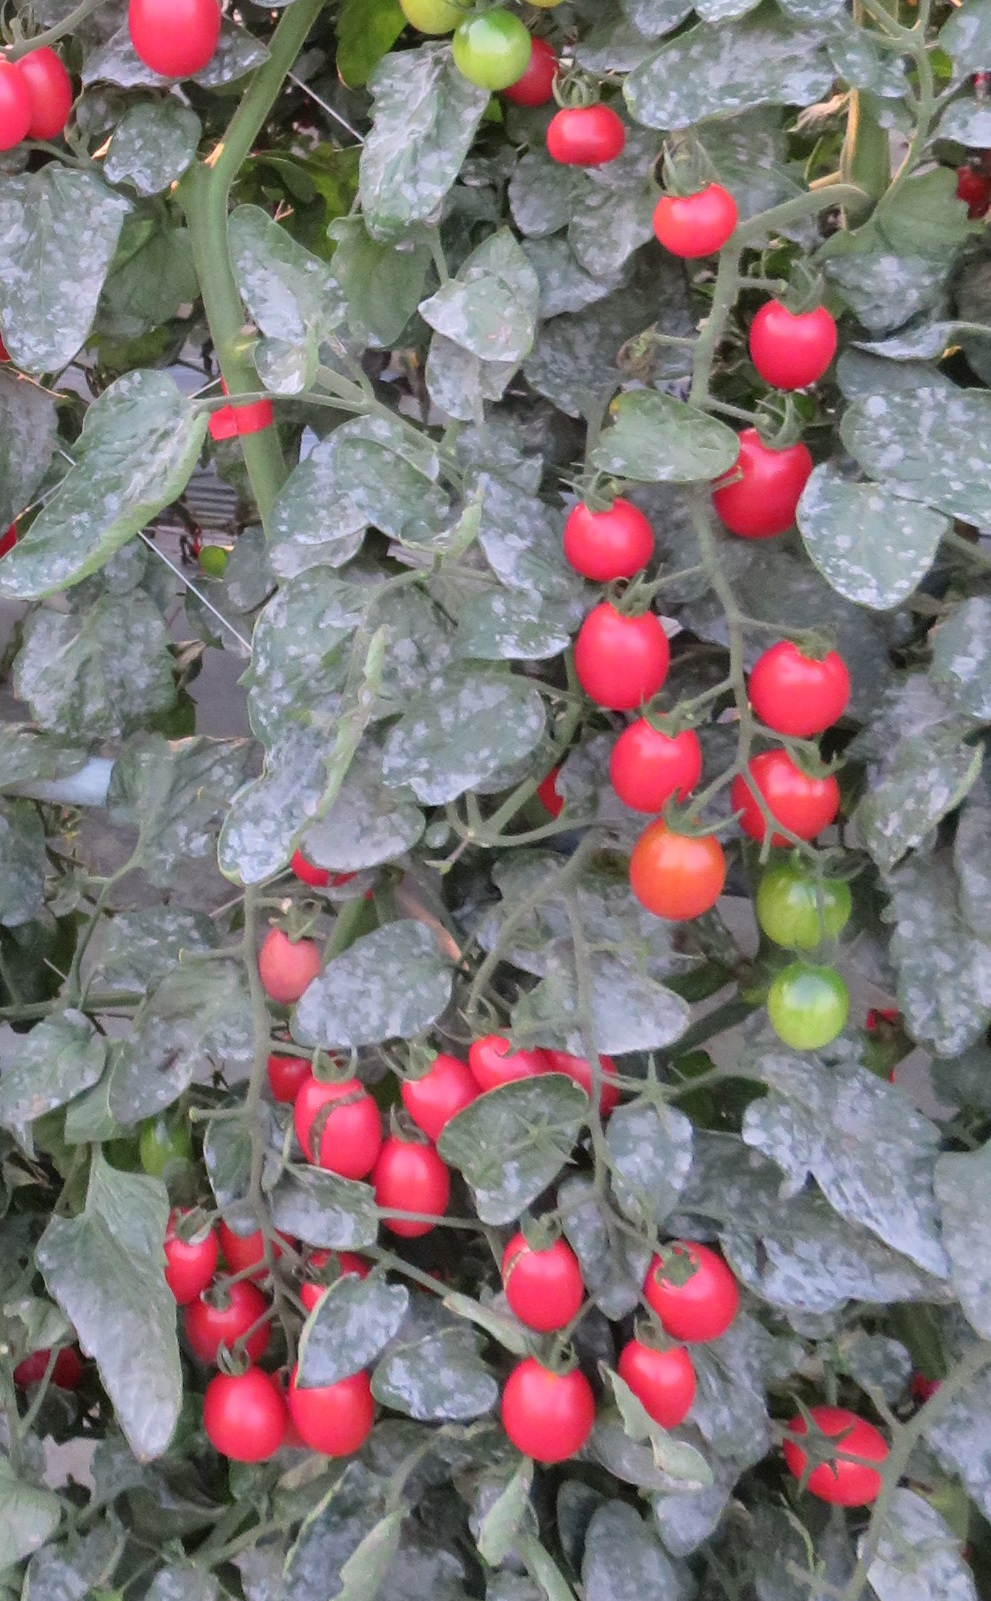green: (753, 855, 866, 955), (772, 963, 853, 1060), (448, 19, 532, 90)
orange: (633, 815, 730, 919), (258, 925, 320, 1005)
red: (496, 1338, 600, 1465), (600, 704, 713, 821), (703, 428, 815, 545), (565, 596, 673, 715), (766, 1405, 892, 1503), (746, 631, 850, 736), (730, 755, 848, 846), (745, 296, 855, 390), (500, 1214, 588, 1331), (641, 1246, 748, 1343), (291, 1075, 385, 1181), (621, 1331, 708, 1436), (198, 1365, 290, 1463), (178, 1271, 271, 1367), (373, 1130, 453, 1238), (556, 488, 656, 573), (641, 181, 741, 263), (130, 1, 216, 90), (398, 1053, 485, 1140), (538, 103, 631, 180), (161, 1203, 221, 1308), (13, 45, 75, 141), (298, 1380, 373, 1461), (467, 1033, 556, 1093), (265, 1046, 315, 1101)
